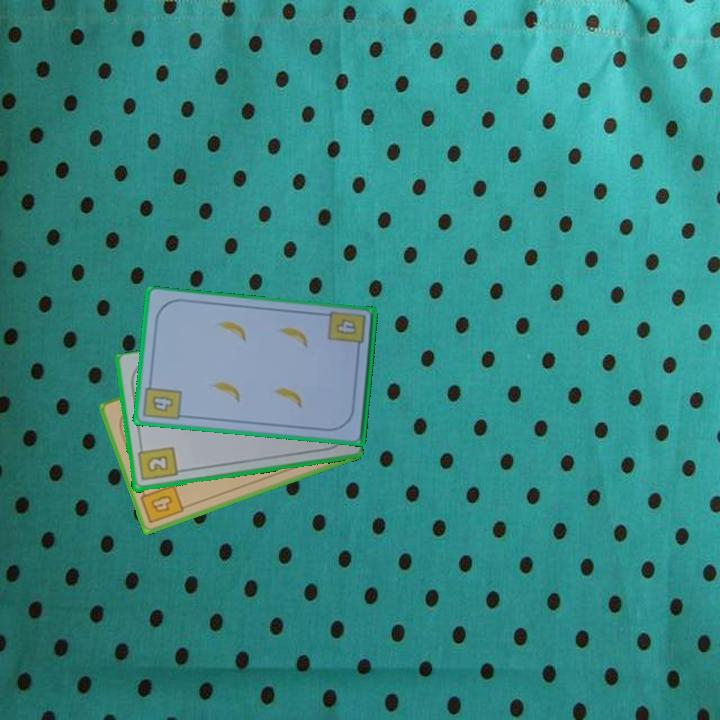2b: (134, 442, 180, 484)
4b: (137, 481, 187, 527), (140, 377, 184, 423), (332, 316, 359, 338)
